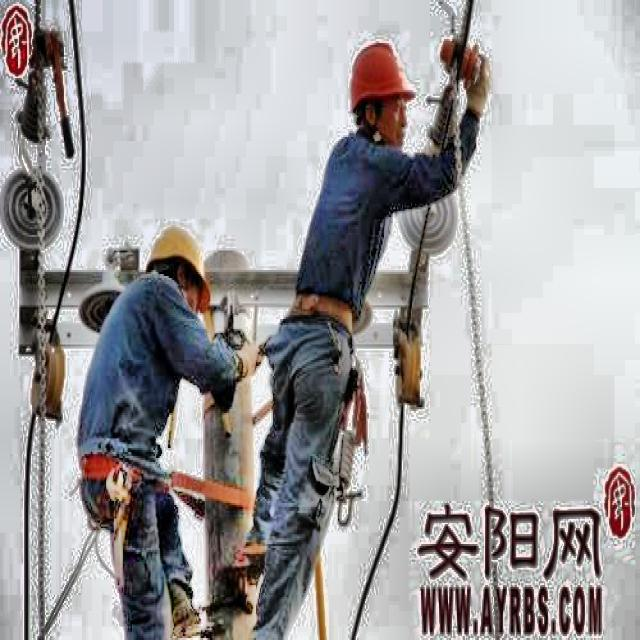helmet: (341, 29, 421, 151), (144, 213, 212, 325)
